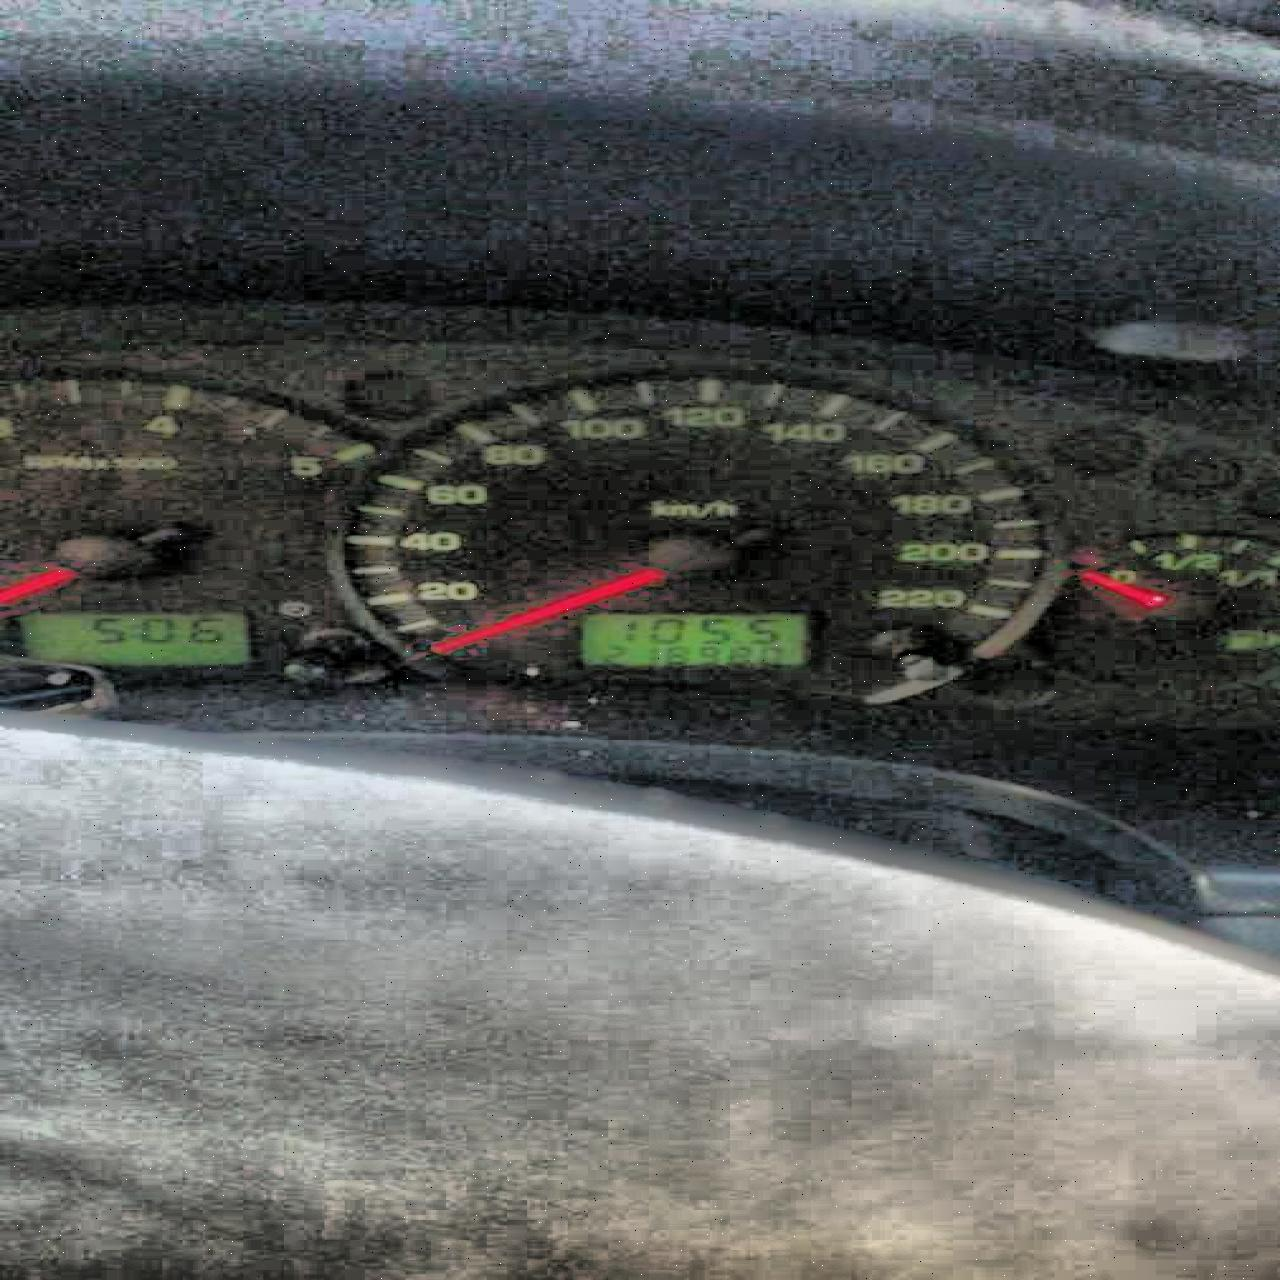-: (730, 636, 743, 646)
0: (644, 617, 685, 644), (753, 646, 783, 666)
1: (617, 618, 639, 641), (641, 644, 659, 667)
2: (595, 642, 626, 666)
5: (694, 615, 733, 645), (743, 617, 783, 645)
8: (659, 644, 687, 666), (722, 646, 753, 666)
9: (694, 645, 717, 666)
odometer: (560, 608, 818, 673)
